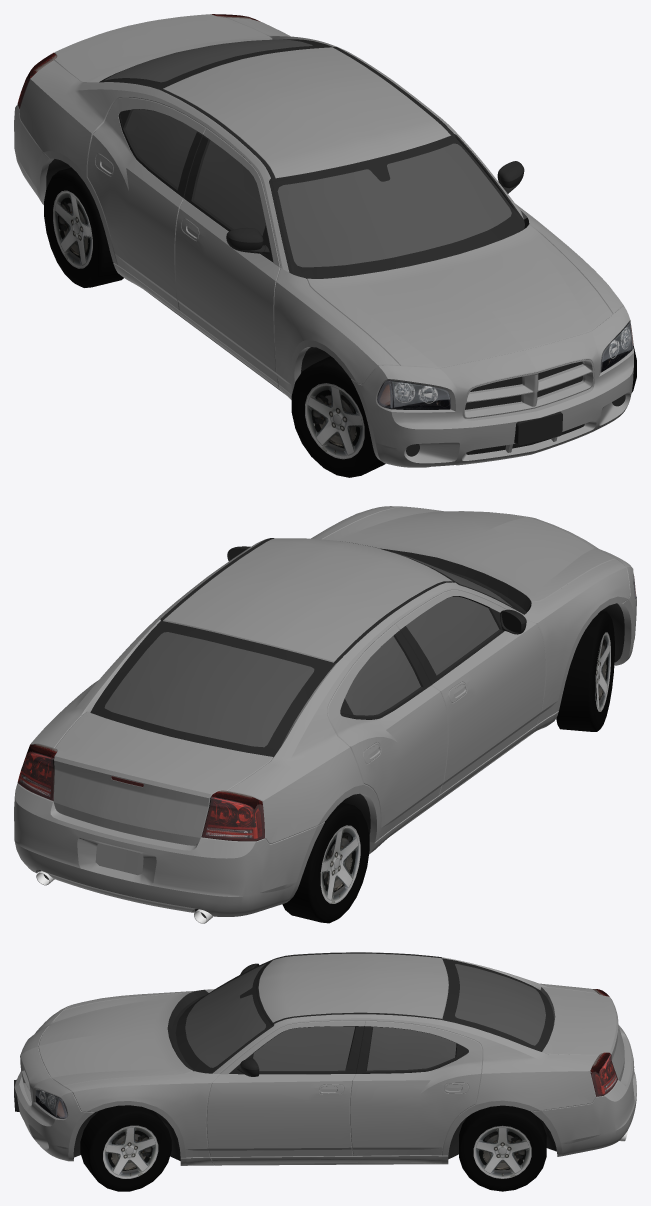
The model's file is car2.glb.
3 views of the same model, one above another, from view 1: azimuth 30°, elevation 25°; view 2: azimuth 150°, elevation 25°; view 3: azimuth 270°, elevation 25° (orthographic). The views are drawn at different scales.
Parts seen in each view (by area): view 1: Plane.002, Plane.003, Plane.001, Plane, Plane.004; view 2: Plane.002, Plane.003, Plane.001, Plane, Plane.004; view 3: Plane.002, Plane.003, Plane, Plane.001, Plane.004.
Part boxes in pixels (x1,y1,x2,y2): Plane.002: (14, 14, 633, 467); Plane.003: (104, 39, 511, 267); Plane.001: (46, 39, 625, 466); Plane: (44, 167, 636, 477); Plane.004: (17, 14, 633, 409); Plane.002: (14, 506, 636, 916); Plane.003: (104, 552, 511, 747); Plane.001: (39, 538, 624, 918); Plane: (282, 611, 614, 923); Plane.004: (17, 574, 636, 841); Plane.002: (14, 952, 636, 1165); Plane.003: (185, 964, 545, 1070); Plane: (80, 1105, 546, 1191); Plane.001: (14, 952, 556, 1160); Plane.004: (35, 989, 617, 1118).
Bounding box in the file's own units: 204 × 149 × 507.
7 materials, 2 textured.
